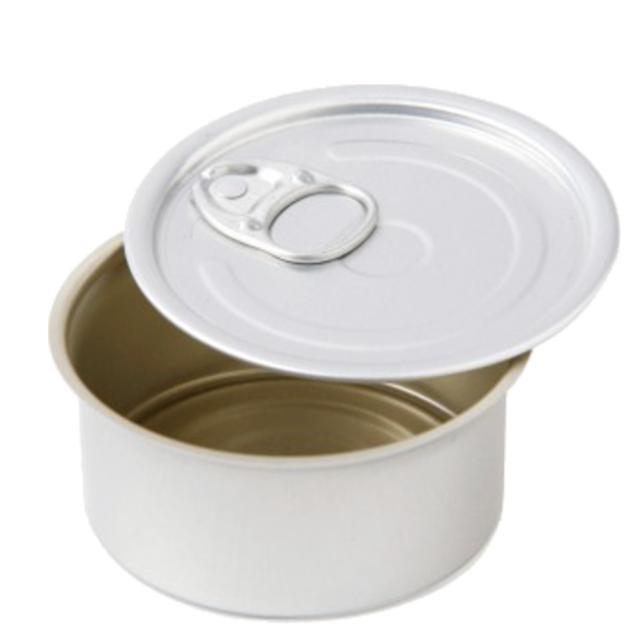recyclable: (30, 36, 630, 630)
